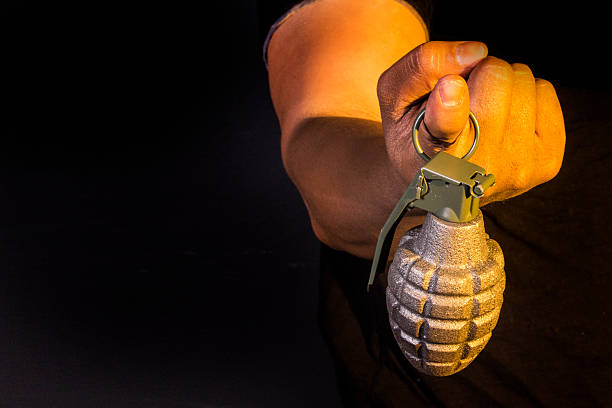e1: (369, 107, 506, 374)
